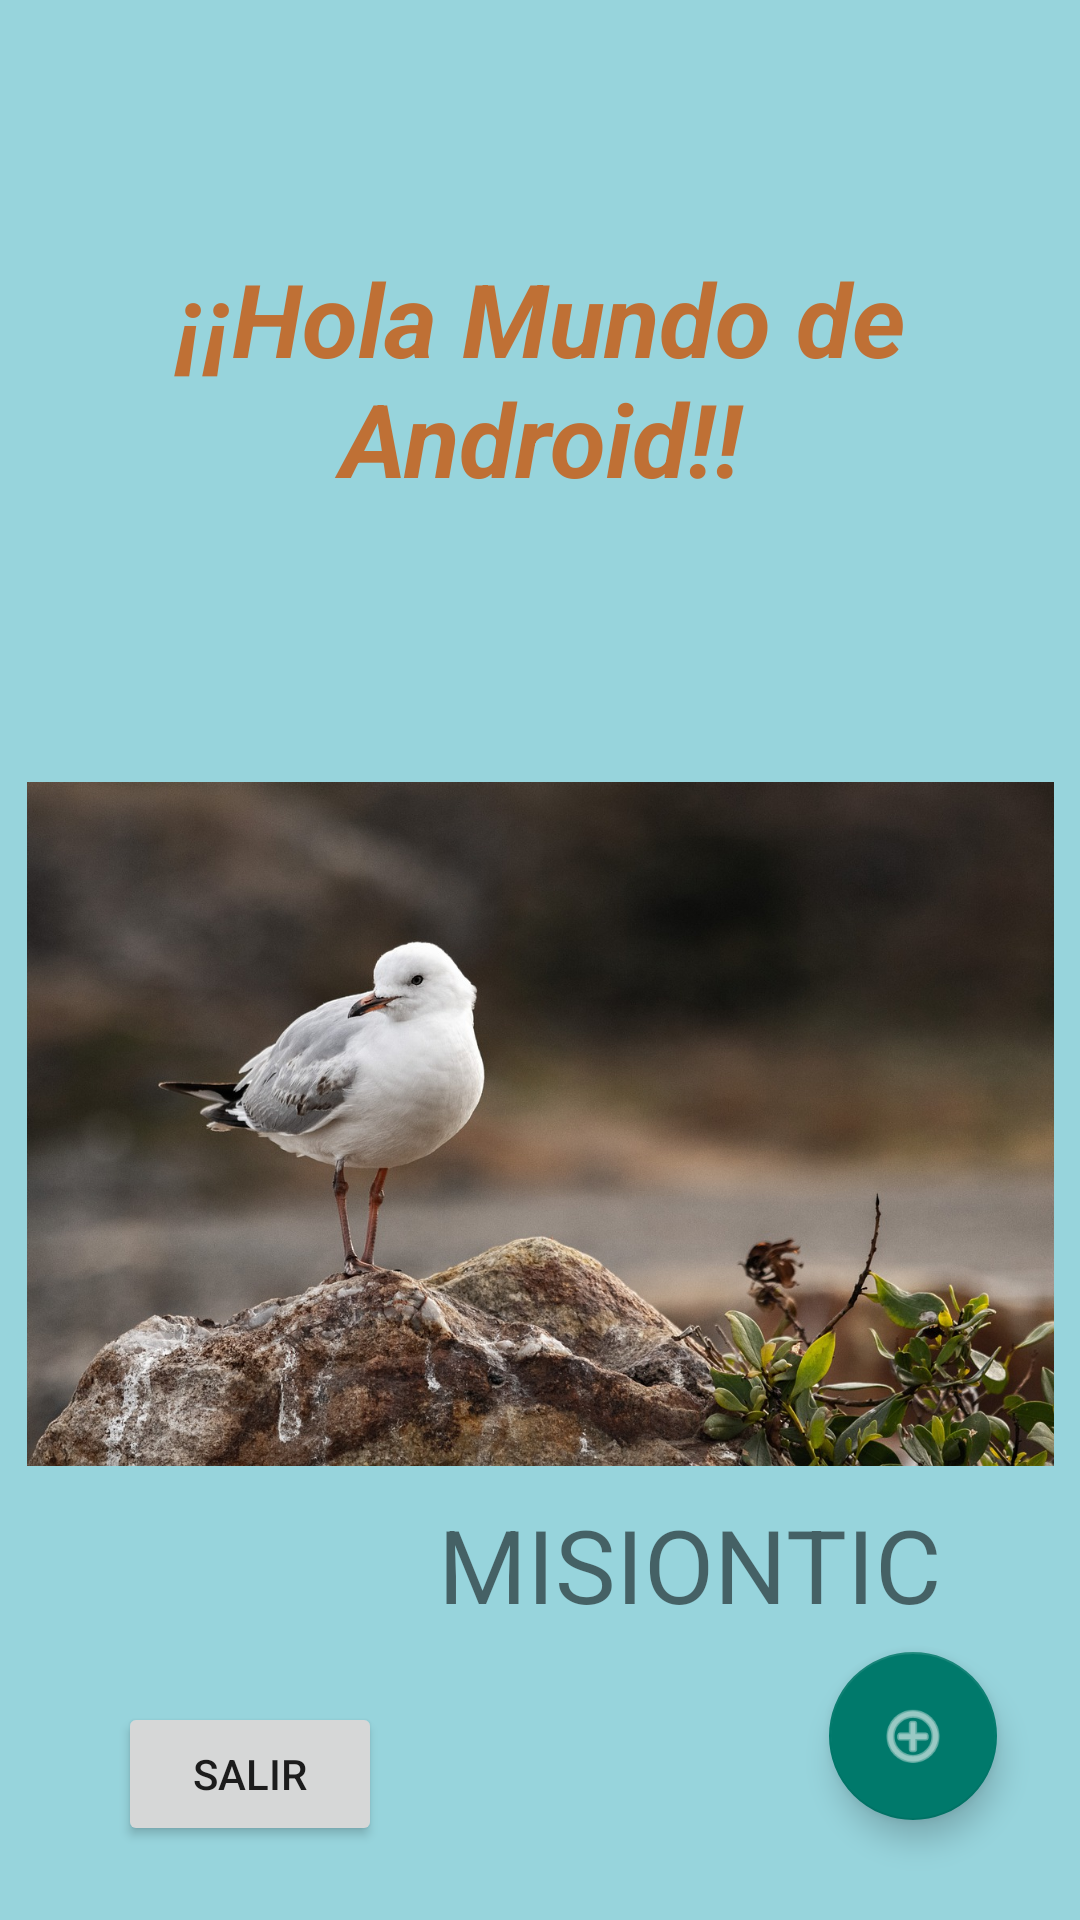

Where to tap for icons on this 1080w x 1920h app screen, as point (x, y):
add: point (913, 1736)
